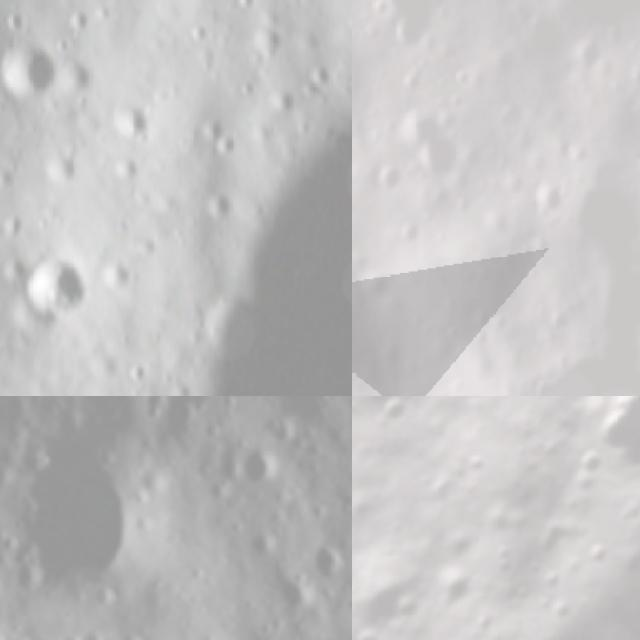crater: (0, 415, 185, 635), (557, 146, 640, 269), (352, 551, 439, 640), (14, 242, 96, 331), (568, 396, 640, 497), (510, 345, 640, 396), (214, 430, 294, 506), (0, 28, 72, 106), (549, 0, 640, 39), (424, 556, 482, 614), (524, 508, 579, 566), (530, 582, 585, 636), (376, 12, 436, 60), (301, 522, 352, 577), (104, 95, 155, 148), (418, 137, 463, 190), (352, 261, 401, 308), (266, 568, 312, 618), (433, 522, 479, 568), (384, 584, 428, 627), (452, 439, 495, 481), (240, 22, 289, 58), (572, 531, 614, 572), (39, 147, 80, 187), (368, 396, 412, 431), (371, 162, 408, 202), (393, 215, 429, 255), (201, 187, 240, 220), (300, 56, 340, 88), (212, 125, 247, 161), (465, 605, 501, 640), (193, 622, 259, 640), (264, 83, 300, 112), (183, 16, 216, 44), (62, 7, 96, 34), (110, 621, 156, 640), (532, 564, 560, 595), (1, 9, 32, 35), (0, 155, 20, 191), (352, 620, 388, 640), (290, 77, 324, 98), (124, 359, 150, 384), (200, 113, 222, 142), (387, 396, 422, 412), (193, 52, 217, 75), (234, 73, 256, 96), (50, 34, 72, 56), (91, 0, 112, 22), (230, 0, 262, 10), (340, 9, 352, 33)
